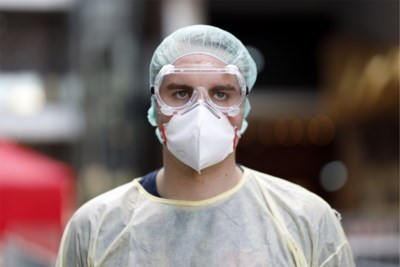with_mask: (164, 65, 235, 173)
